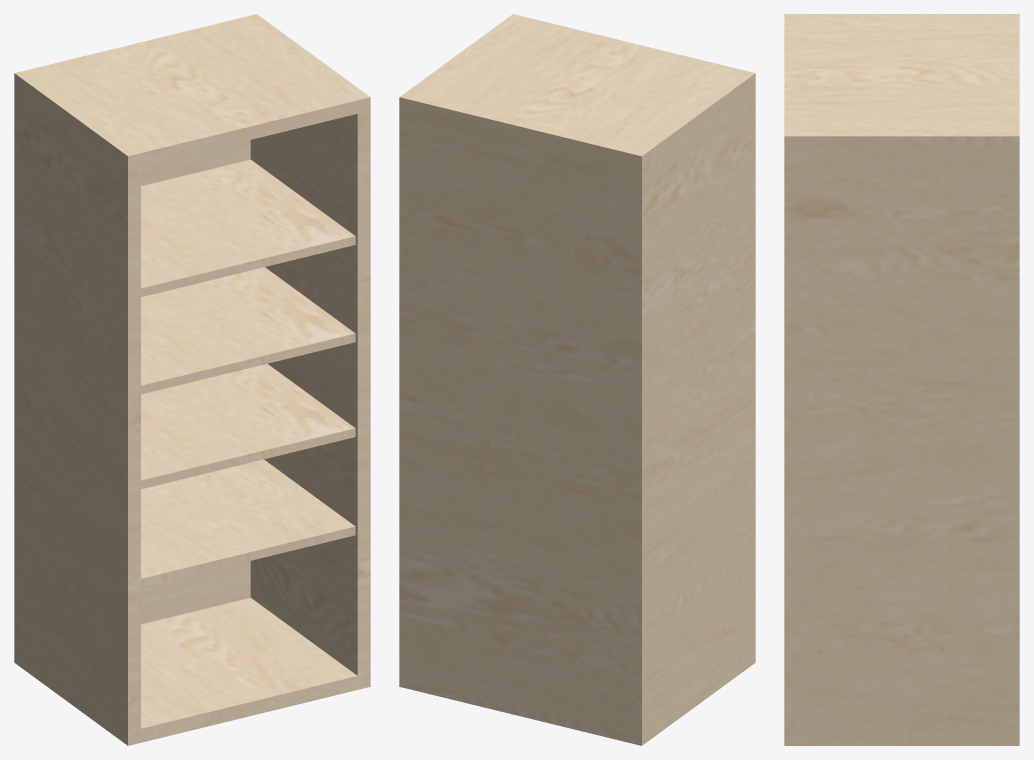
Rendered from Closet16.fbx.
3 renders of one model, left to right at view 1: azimuth 30°, elevation 25°; view 2: azimuth 150°, elevation 25°; view 3: azimuth 270°, elevation 25°, orthographic. The views are drawn at different scales.
Visible parts, largest first — view 1: Closet16; view 2: Closet16; view 3: Closet16.
Part boxes in pixels (x1=…): Closet16: x1=14, y1=14, x2=370, y2=745; Closet16: x1=399, y1=14, x2=755, y2=745; Closet16: x1=784, y1=14, x2=1019, y2=745.
Size of the model in its own units: 109 by 254 by 88.93.
